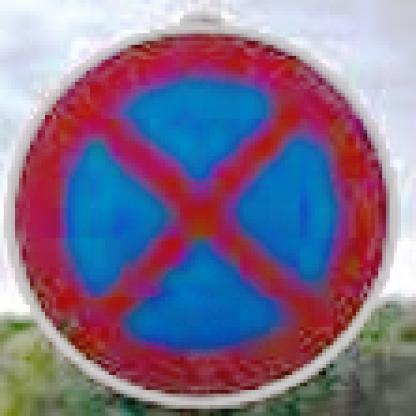No stopping: (13, 29, 400, 410)
